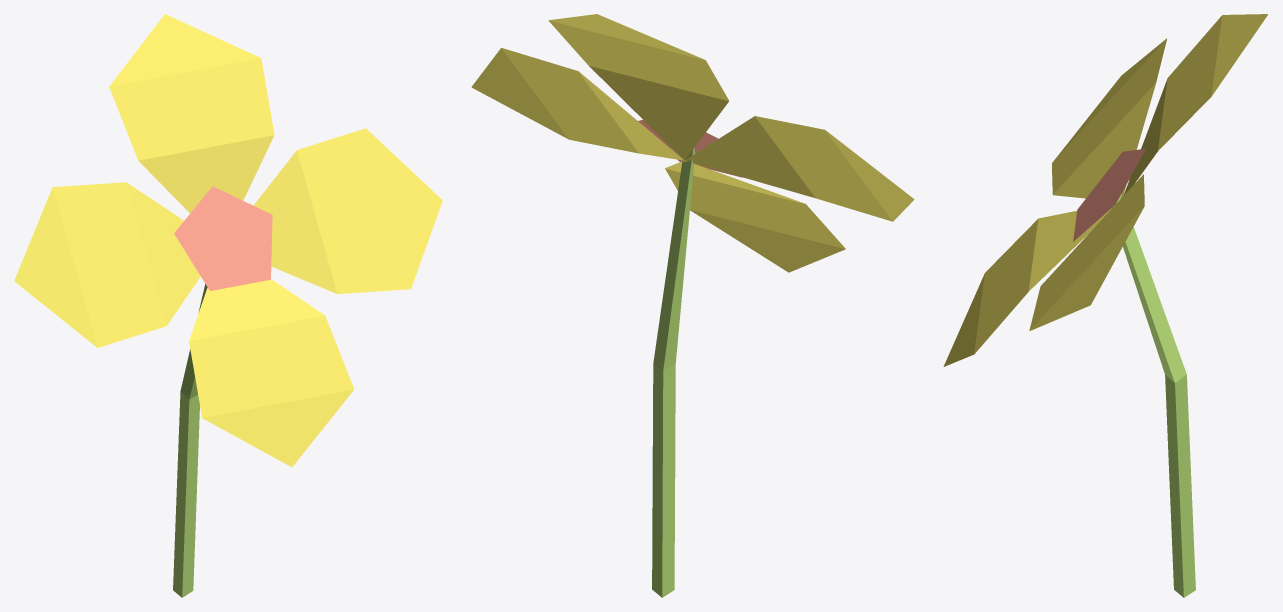
The model's file is Flower_d_TwoS_04.fbx.
3 renders of one model, left to right at view 1: azimuth 30°, elevation 25°; view 2: azimuth 150°, elevation 25°; view 3: azimuth 270°, elevation 25°, orthographic. The views are drawn at different scales.
Parts seen in each view (by area): view 1: Flower_d_TwoS_04; view 2: Flower_d_TwoS_04; view 3: Flower_d_TwoS_04.
Boxes of the visible parts, x1,y1,x2,y2 form: Flower_d_TwoS_04: [14, 14, 442, 597]; Flower_d_TwoS_04: [471, 14, 914, 597]; Flower_d_TwoS_04: [943, 14, 1267, 597].
Bounding box in the file's own units: 25.63 × 32.24 × 16.11.
